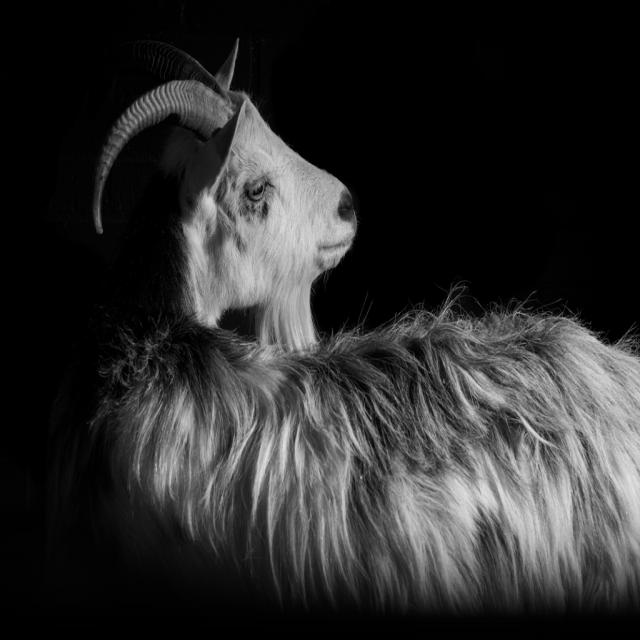Goat: (79, 33, 640, 613)
